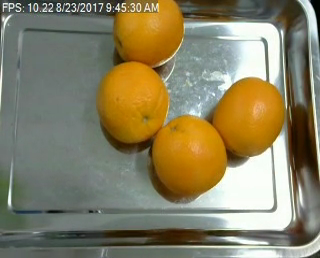Orange: (151, 116, 226, 197), (213, 76, 287, 158), (97, 62, 168, 144), (112, 1, 183, 63)
